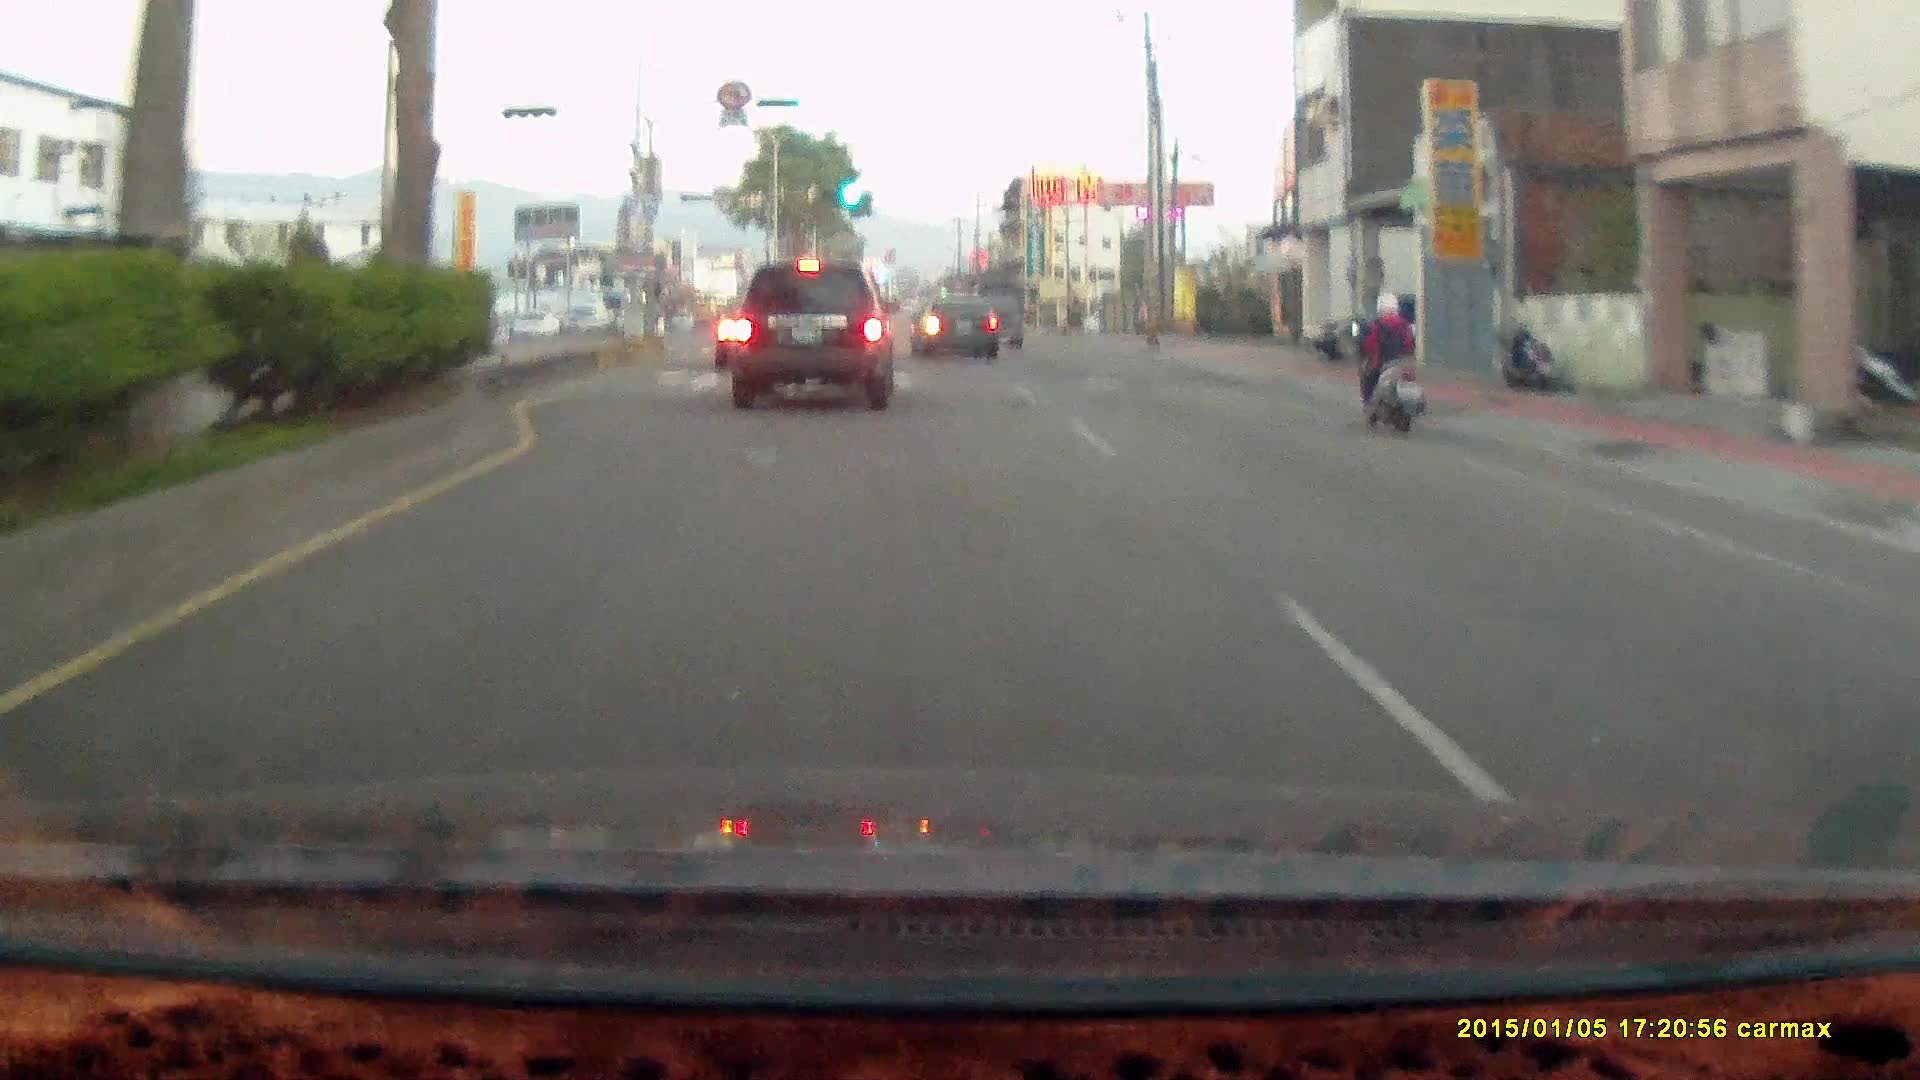rider: (1338, 278, 1442, 449), (1351, 291, 1427, 436)
vehicle: (724, 261, 894, 418), (728, 266, 898, 413), (1303, 291, 1486, 362), (1311, 290, 1424, 364), (911, 293, 1004, 361), (911, 301, 999, 365), (964, 284, 1025, 350), (969, 287, 1029, 354), (560, 307, 609, 337), (511, 312, 560, 339)
